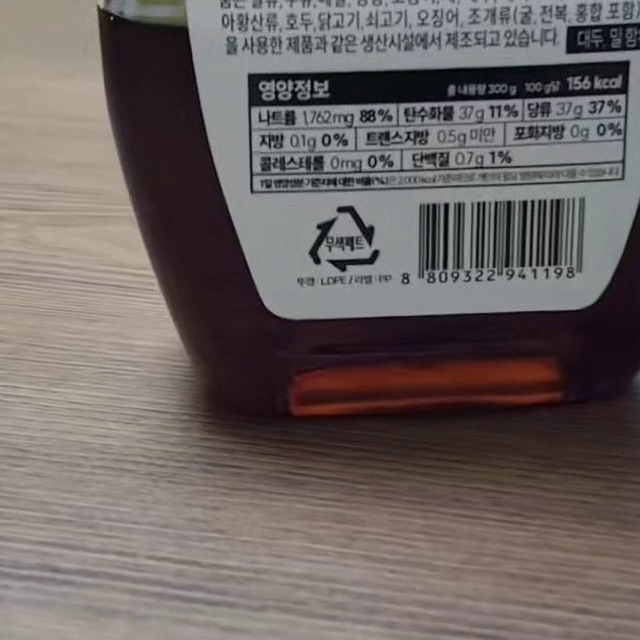ColorlessPet: (309, 207, 378, 271)
